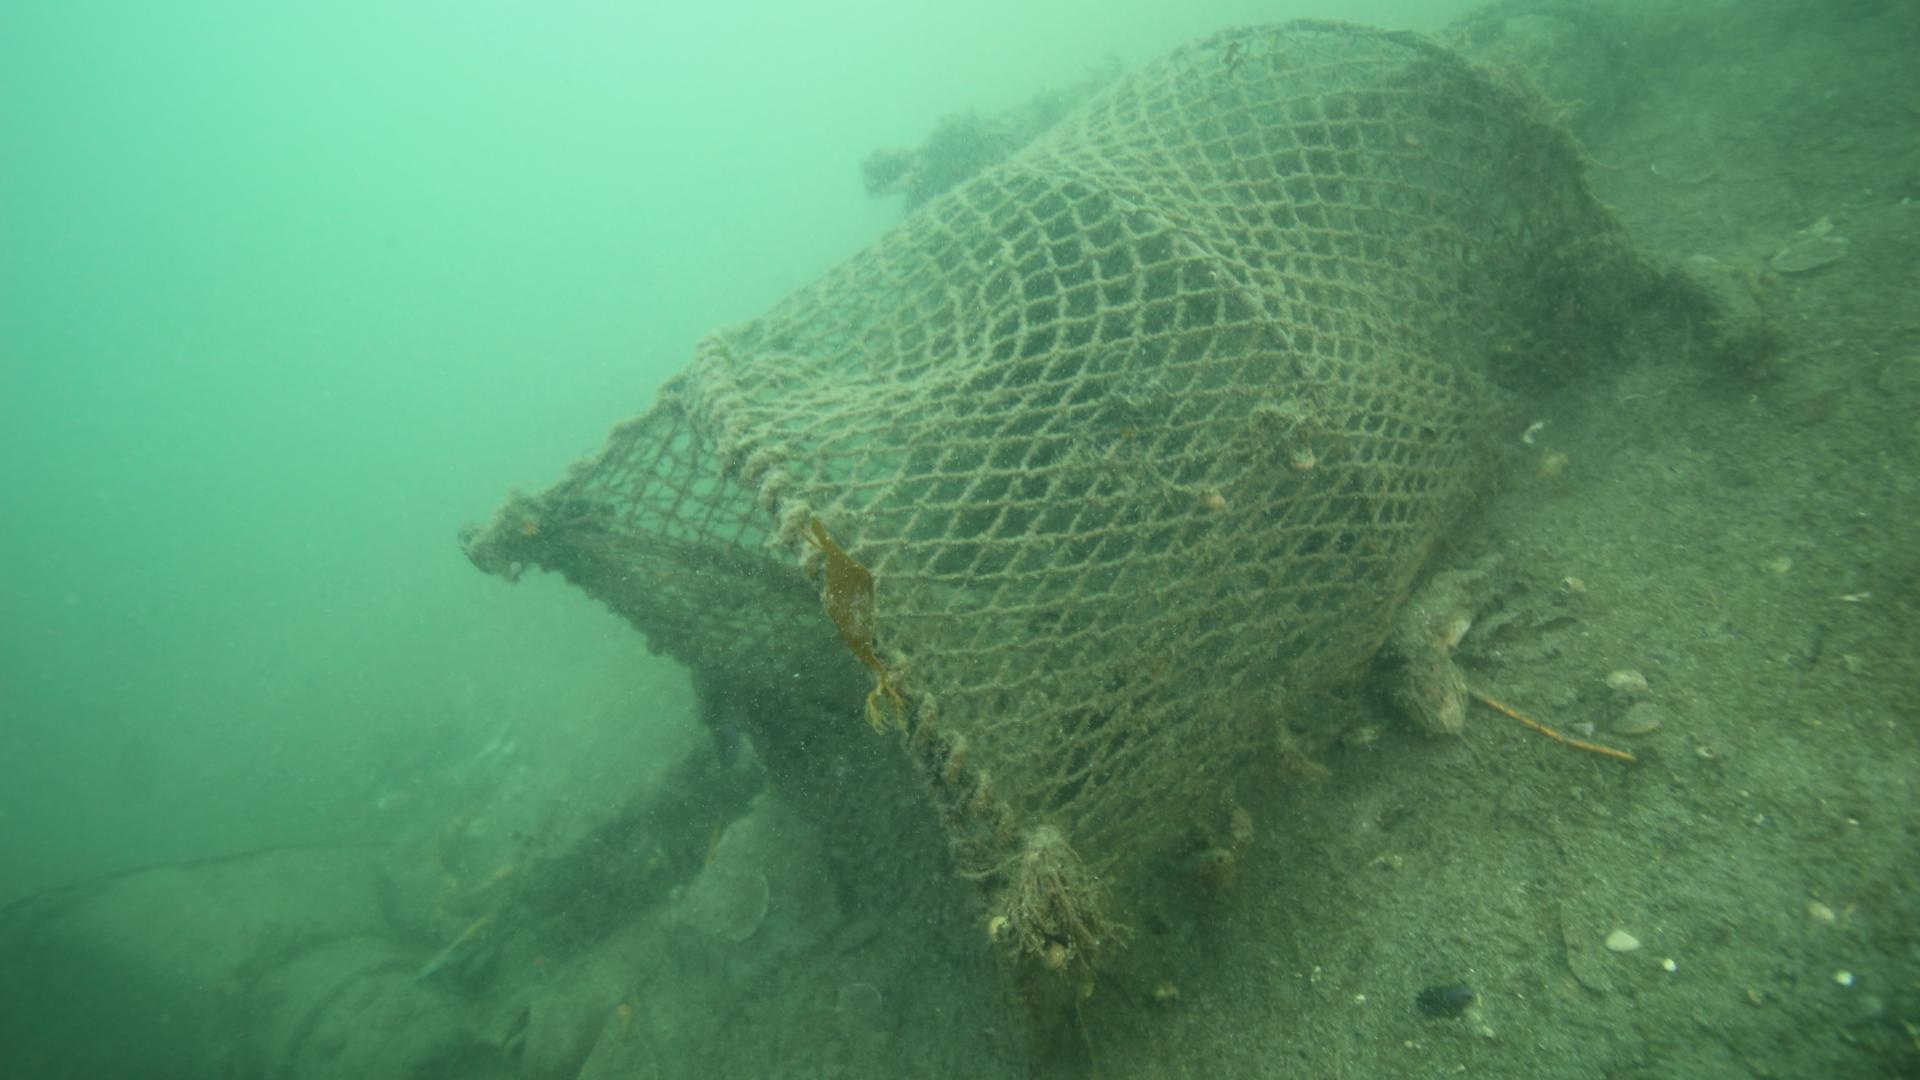spring fish trap: (454, 21, 1639, 1059)
